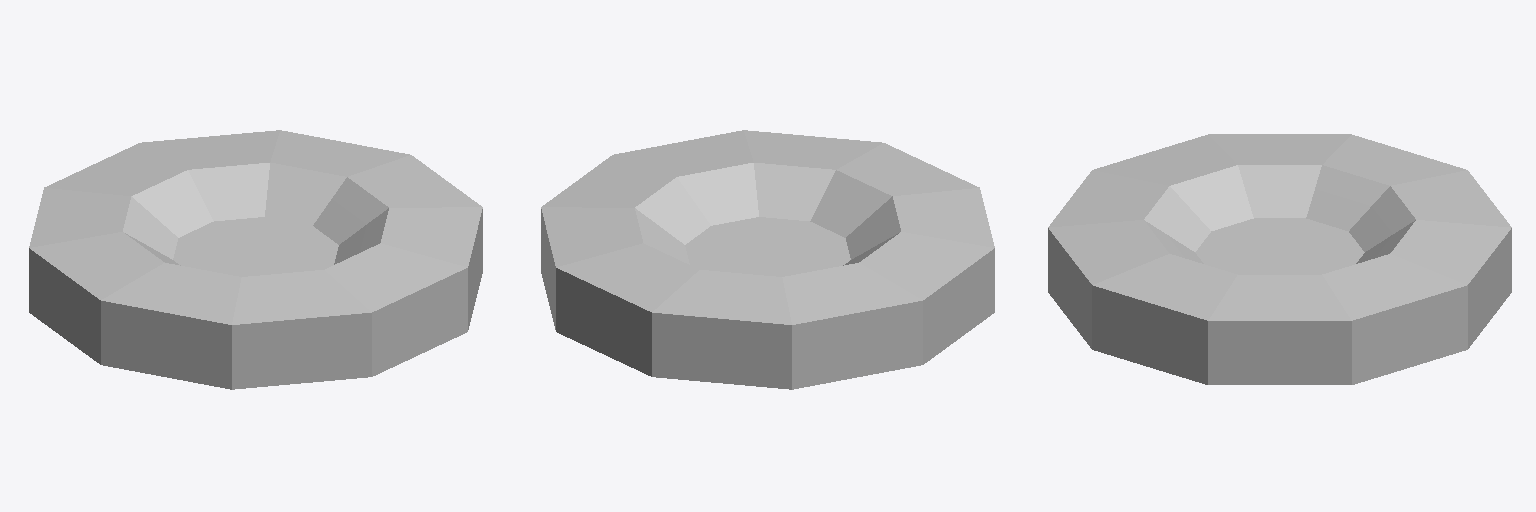
File: MultiPurpose Disc.obj
3 renders of one model, left to right at view 1: azimuth 30°, elevation 25°; view 2: azimuth 150°, elevation 25°; view 3: azimuth 270°, elevation 25°, orthographic.
Parts seen in each view (by area): view 1: Circle; view 2: Circle; view 3: Circle.
Part boxes in pixels (x1,y1,x2,y2): Circle: (29,130,482,389); Circle: (541,130,994,389); Circle: (1048,134,1511,384).
Size of the model in its own units: 1.9 by 0.3442 by 2.